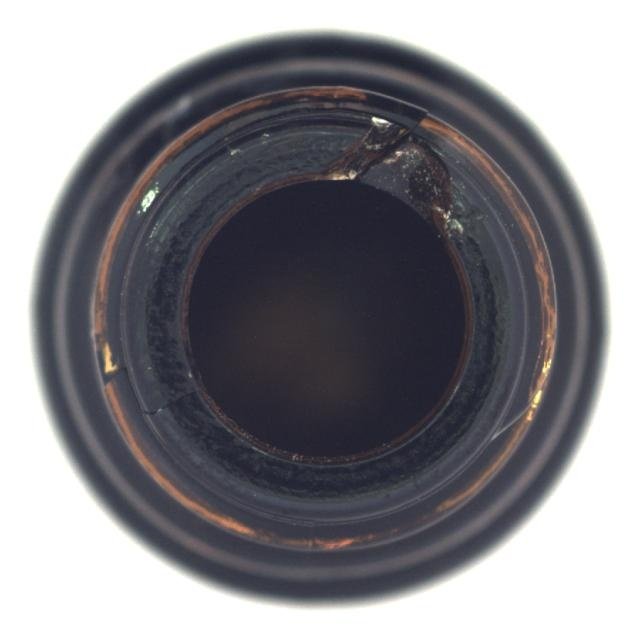bad-broken_small: (29, 28, 611, 610)
